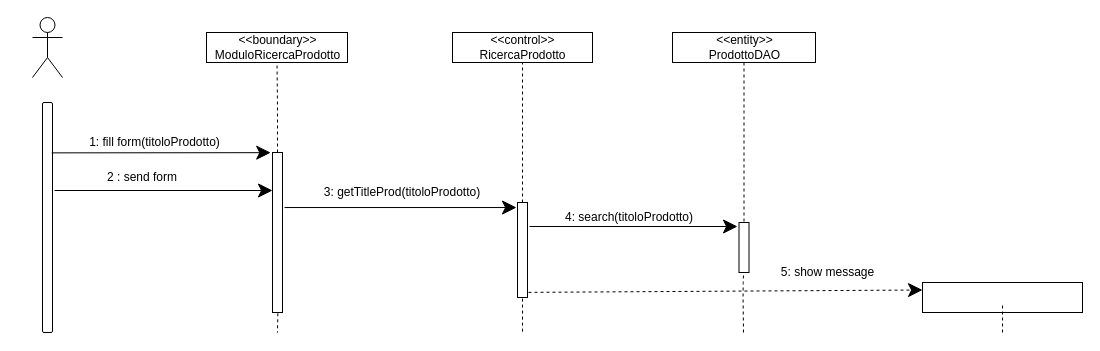
Some shapes in this 1100 by 351 pixel diagram are drawn without their labels. The box of each missing label's shape, as (x1, y1, x2, y2) in pixels:
<<boundary>> NotificaRicercaVuota: (922, 282, 1082, 312)
Utente: (32, 16, 62, 78)
